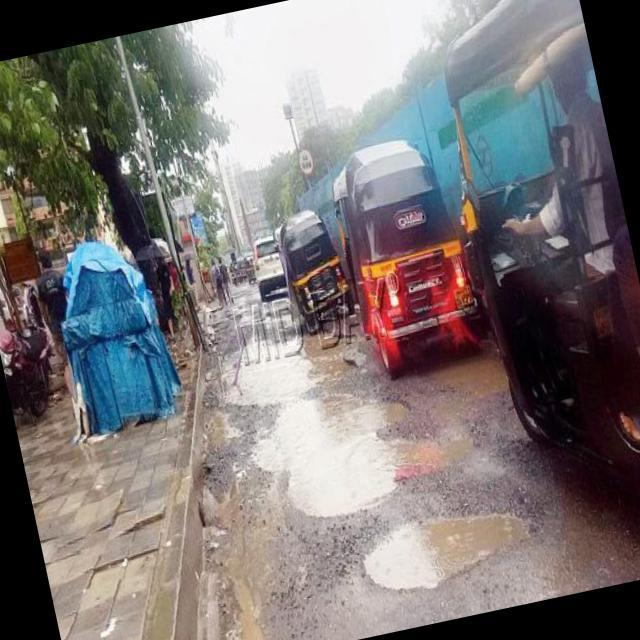Pothole: (182, 249, 493, 552), (350, 482, 574, 608), (177, 477, 297, 640), (201, 394, 241, 440)
